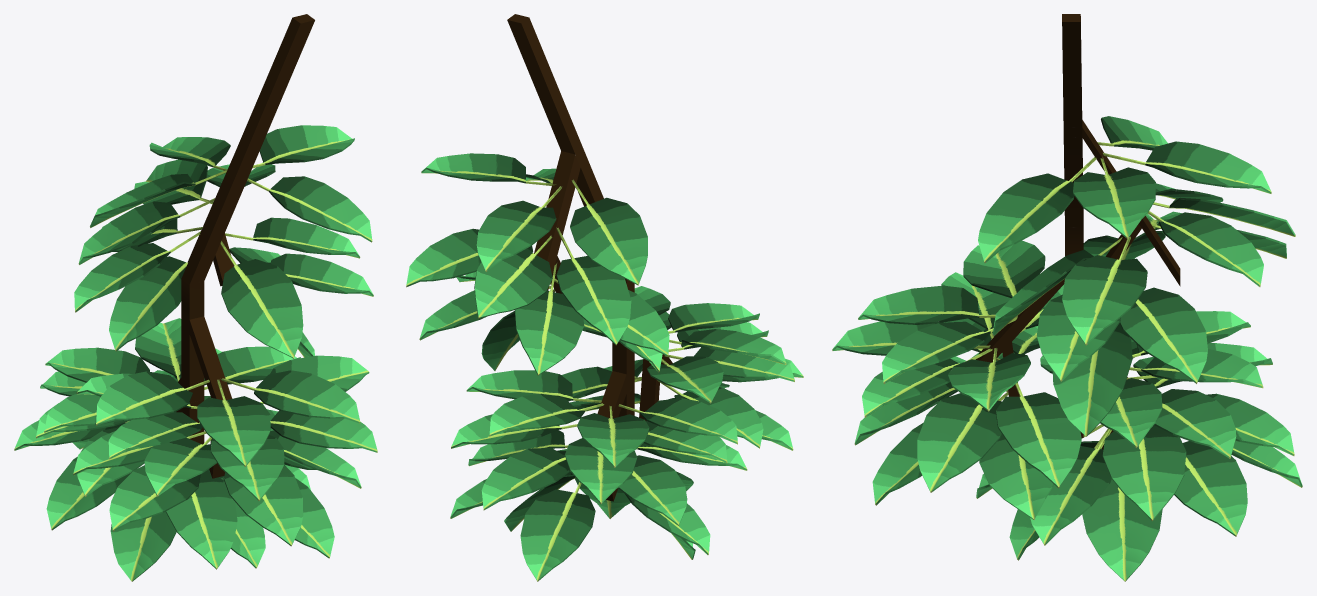
File: branch_final.fbx
3 views of the same model, side by side, from view 1: azimuth 30°, elevation 25°; view 2: azimuth 150°, elevation 25°; view 3: azimuth 270°, elevation 25° (orthographic). The views are drawn at different scales.
Visible parts, largest first — view 1: pCube2; view 2: pCube2; view 3: pCube2.
Part boxes in pixels (<box>): pCube2: <box>14,14,377,581</box>; pCube2: <box>406,14,803,581</box>; pCube2: <box>832,14,1302,581</box>.
Bounding box in the file's own units: 3.78 × 5.88 × 4.29.
